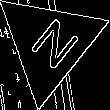N_SW: (19, 11, 80, 76)
